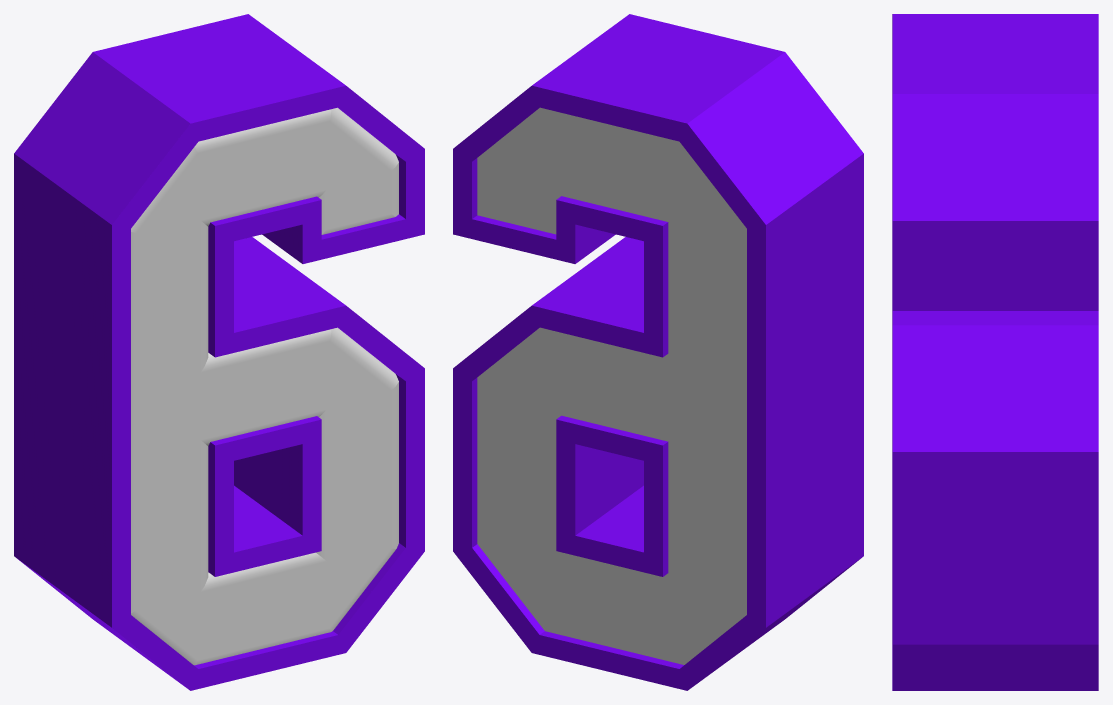
The picture shows the model from 3 angles, left to right: view 1: azimuth 30°, elevation 25°; view 2: azimuth 150°, elevation 25°; view 3: azimuth 270°, elevation 25°; orthographic projection. The views are drawn at different scales.
Parts seen in each view (by area): view 1: Extrusion Model.000, Extrusion Model; view 2: Extrusion Model.000, Extrusion Model; view 3: Extrusion Model.000.
Part boxes in pixels (<box>): Extrusion Model.000: <box>14,14,424,690</box>; Extrusion Model: <box>131,107,398,665</box>; Extrusion Model.000: <box>453,14,863,690</box>; Extrusion Model: <box>477,107,746,664</box>; Extrusion Model.000: <box>892,14,1098,690</box>.
Size of the model in its own units: 8.8 by 15.25 by 4.77.
